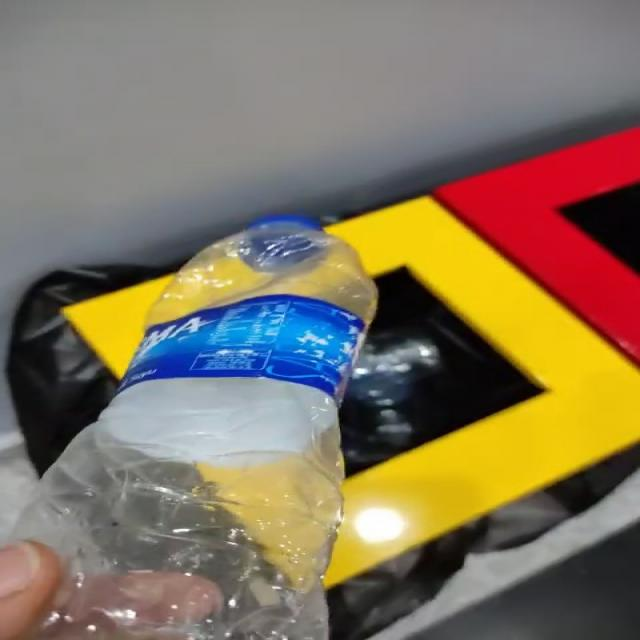plastic: (19, 215, 377, 640)
